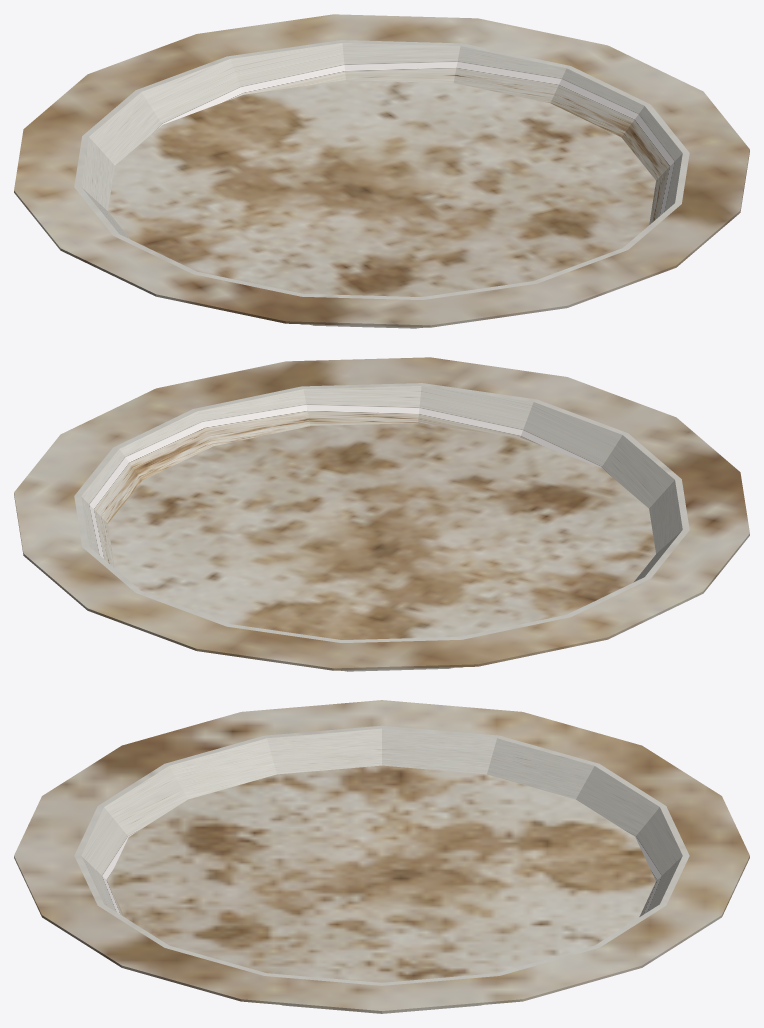
Rendered from DinnerPlate.fbx.
3 renders of one model, top to bottom at view 1: azimuth 30°, elevation 25°; view 2: azimuth 150°, elevation 25°; view 3: azimuth 270°, elevation 25°, orthographic.
Parts seen in each view (by area): view 1: Cylinder; view 2: Cylinder; view 3: Cylinder.
Part boxes in pixels (<box>): Cylinder: <box>14,14,749,328</box>; Cylinder: <box>14,357,749,671</box>; Cylinder: <box>14,700,749,1013</box>.
Bounding box in the file's own units: 285 × 21.02 × 285.
Materials: 1 (1 with a texture image).
